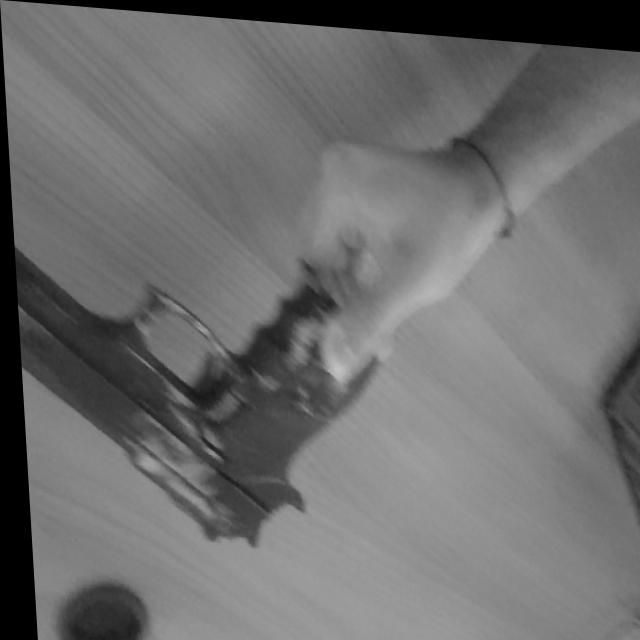handgun: (9, 197, 440, 578)
